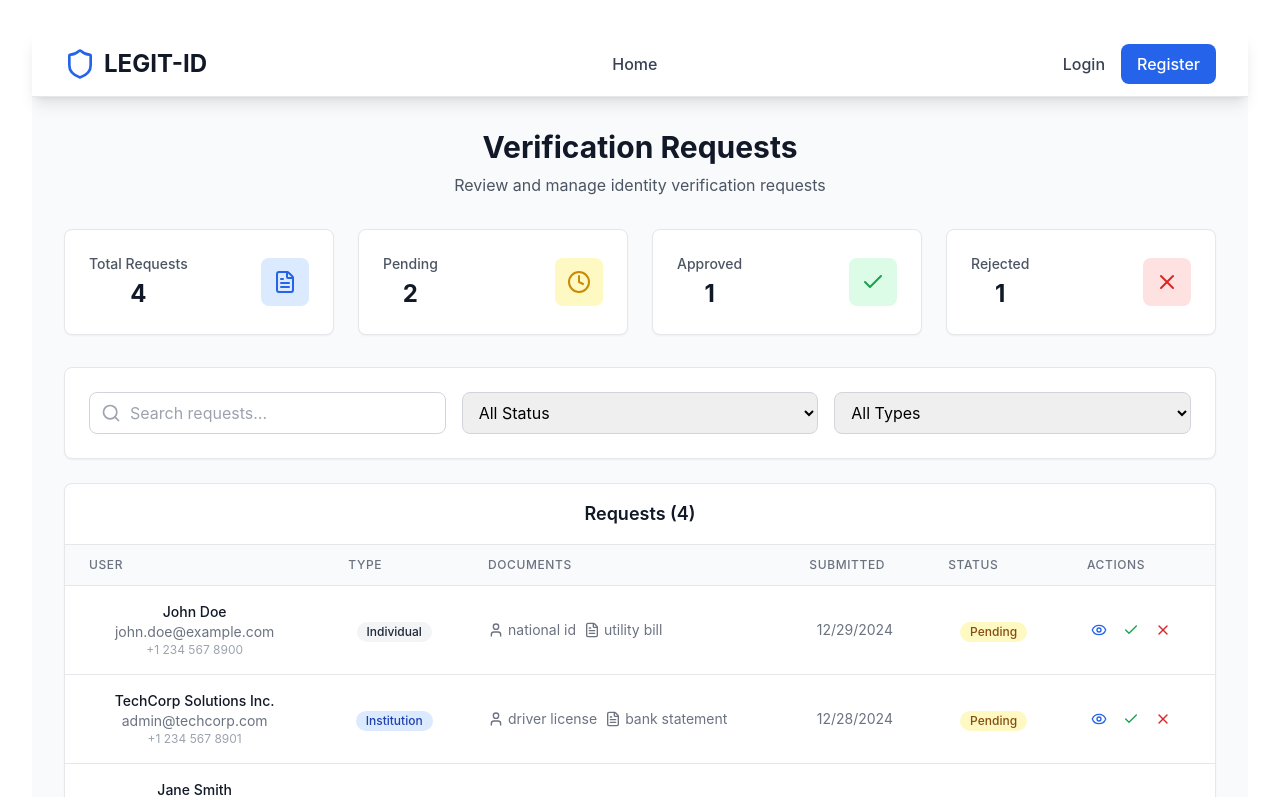
Test: AdminVerificationRequestsPage › opens modal when view button is clicked
The image size is (1280, 797).
Click the button named "View request details" in the row of "john.doe@example.com".
click(1099, 630)  # box [1087,618,1111,642]
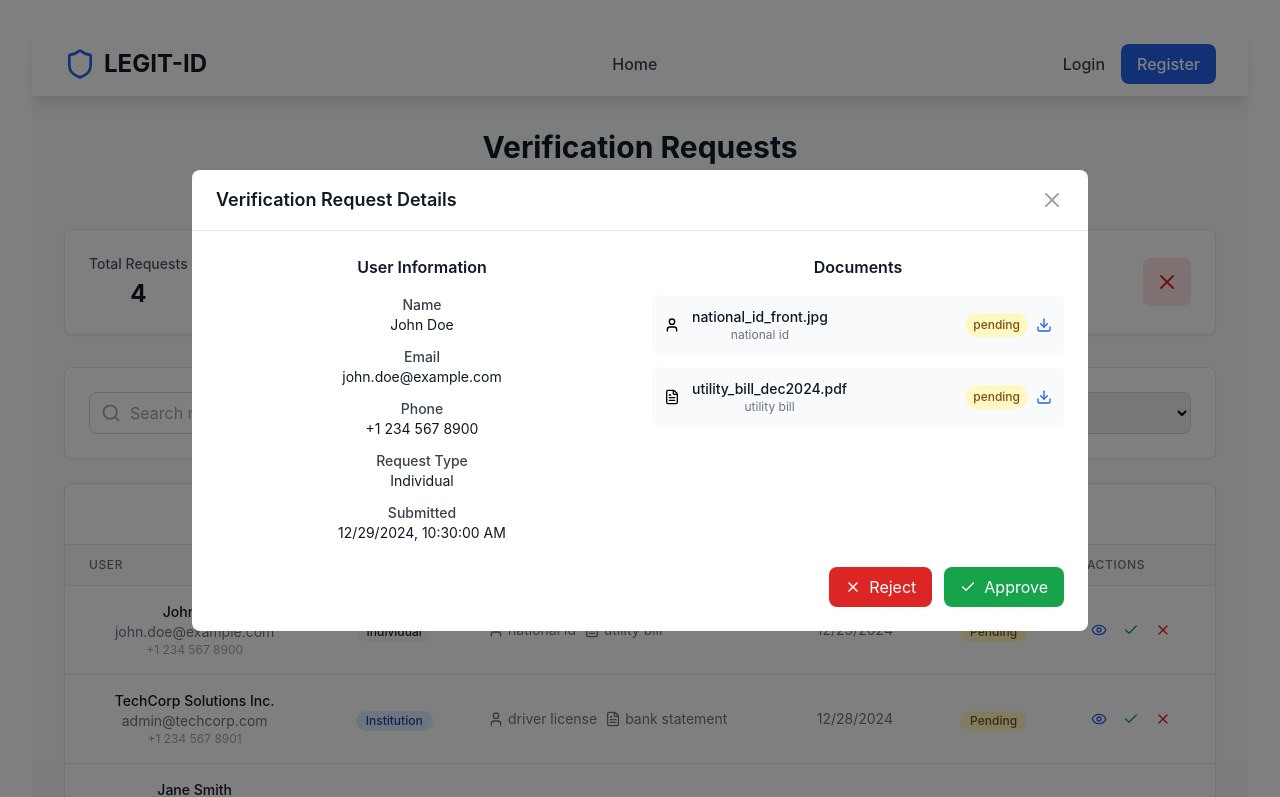
Expected: the heading "Verification Request Details" is shown, [216,186,457,214]
